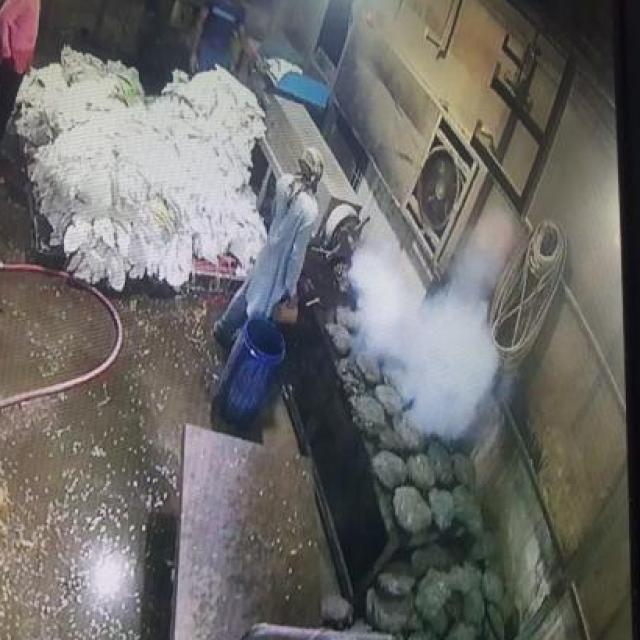fire: (346, 248, 504, 442)
